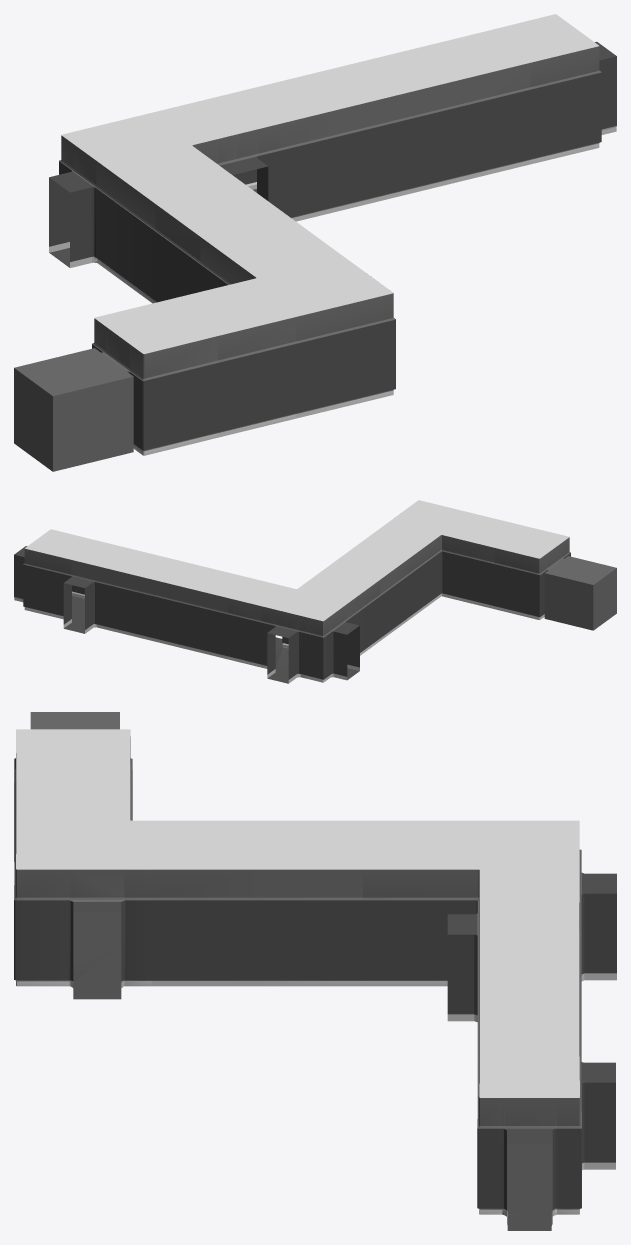
File: HallwayModel.fbx
3 views of the same model, one above another, from view 1: azimuth 30°, elevation 25°; view 2: azimuth 150°, elevation 25°; view 3: azimuth 270°, elevation 25° (orthographic). The views are drawn at different scales.
Visible parts, largest first — view 1: HallwayModel; view 2: HallwayModel; view 3: HallwayModel.
Part boxes in pixels (box(x1,y1,x2,y2)): HallwayModel: box(14, 14, 616, 471); HallwayModel: box(14, 500, 616, 683); HallwayModel: box(14, 712, 616, 1230).
Size of the model in its own units: 2393 by 301 by 1411.
